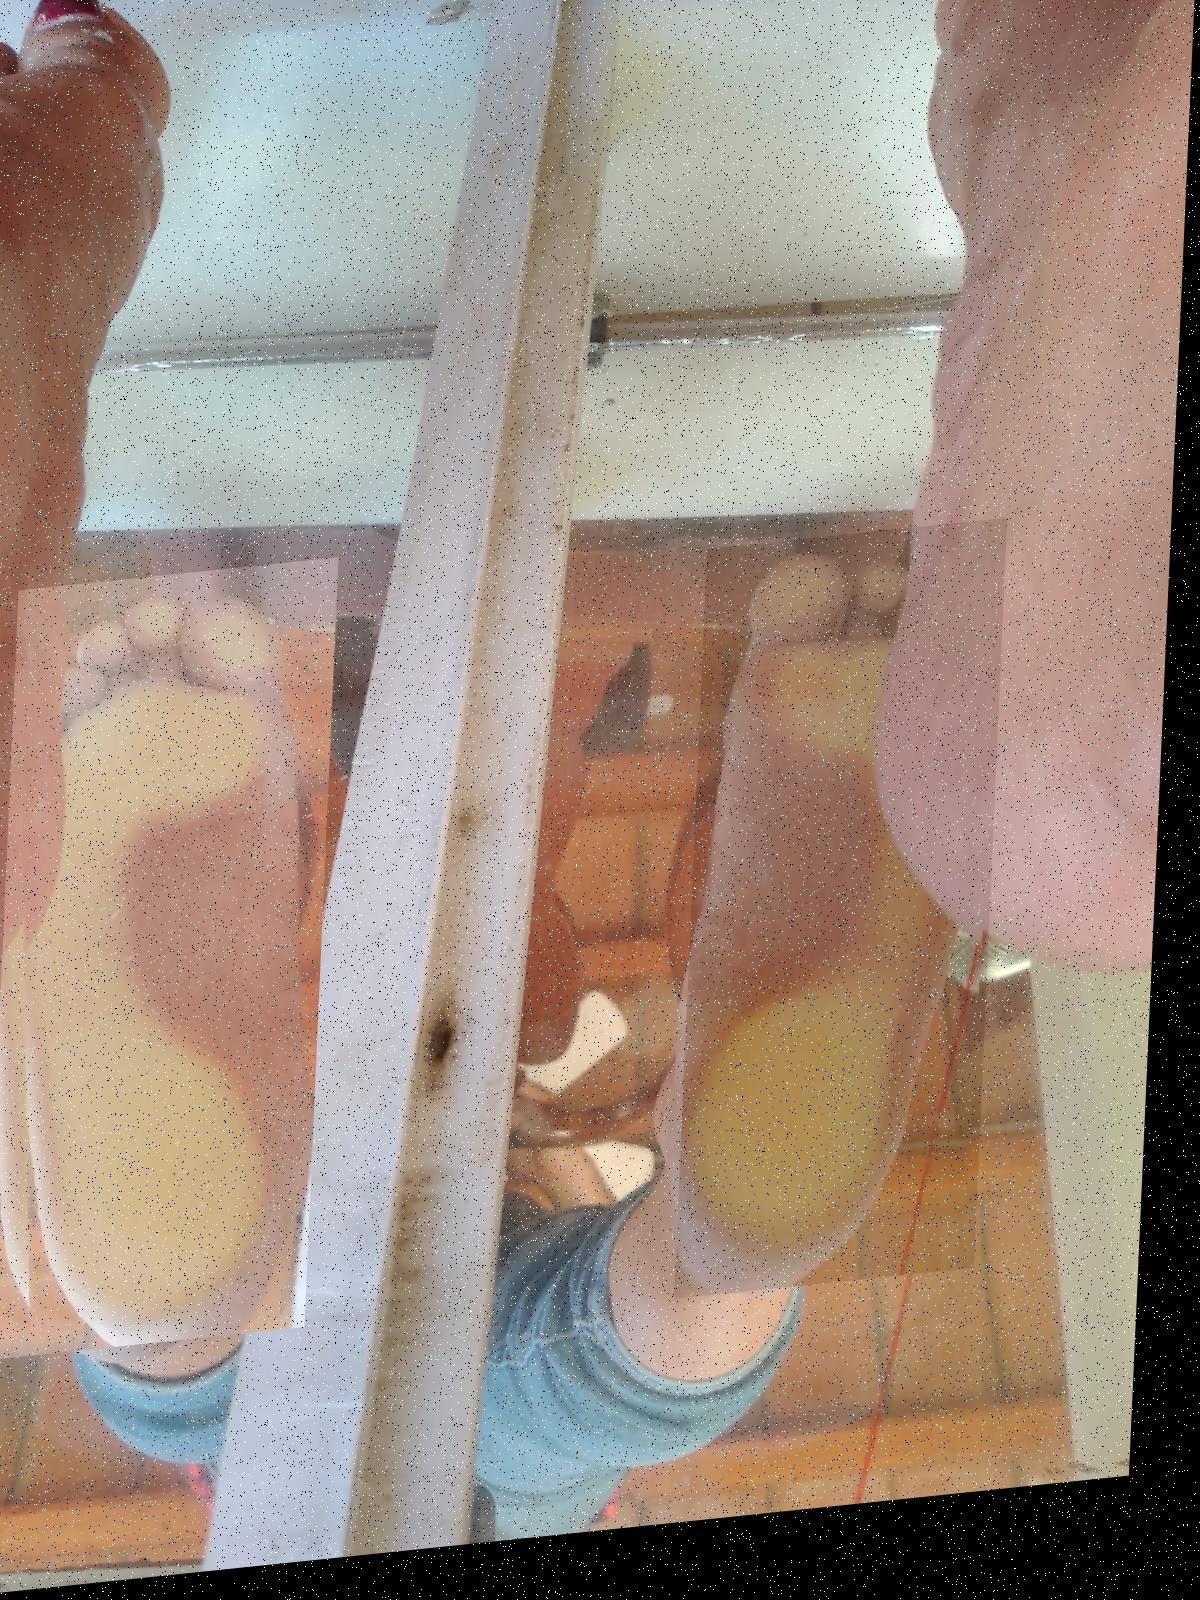9: (0, 566, 344, 1362)
Present: (687, 540, 1013, 1315)
